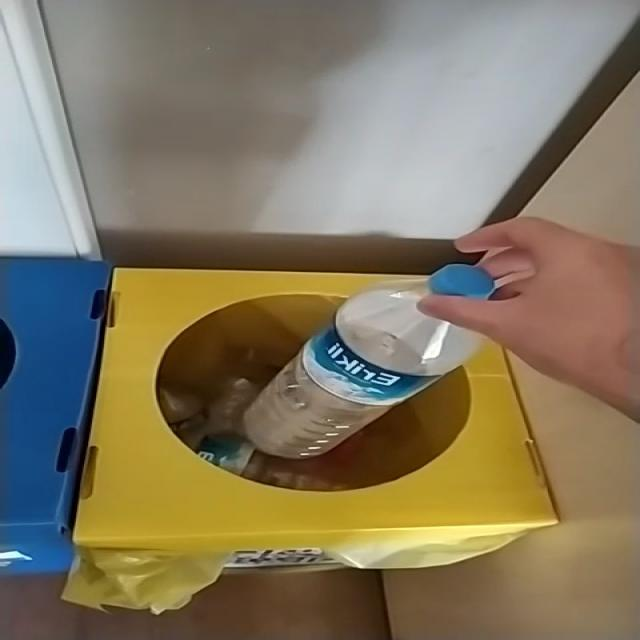Plastic: (244, 264, 495, 458)
